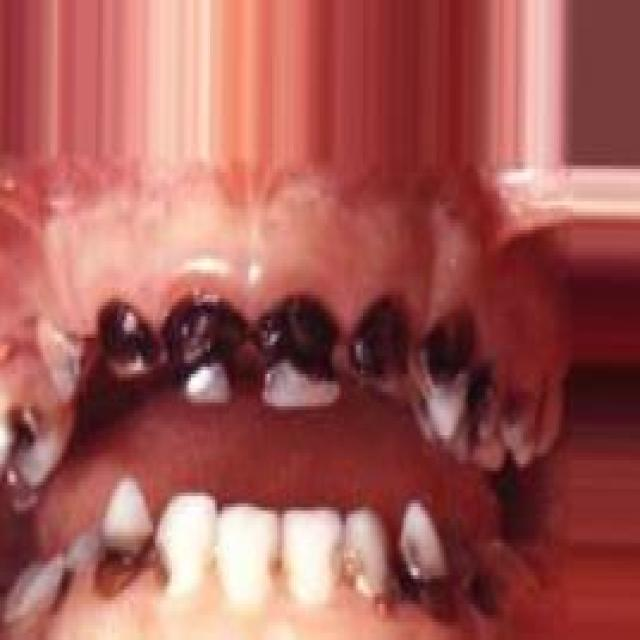caries: (246, 283, 346, 420), (160, 290, 249, 409), (394, 496, 462, 630), (412, 306, 477, 443), (92, 474, 156, 601), (344, 290, 413, 403), (94, 290, 162, 386), (336, 509, 393, 617), (0, 375, 55, 483), (501, 367, 548, 483), (463, 355, 501, 469), (462, 548, 510, 635), (150, 510, 185, 603), (45, 553, 88, 626)
